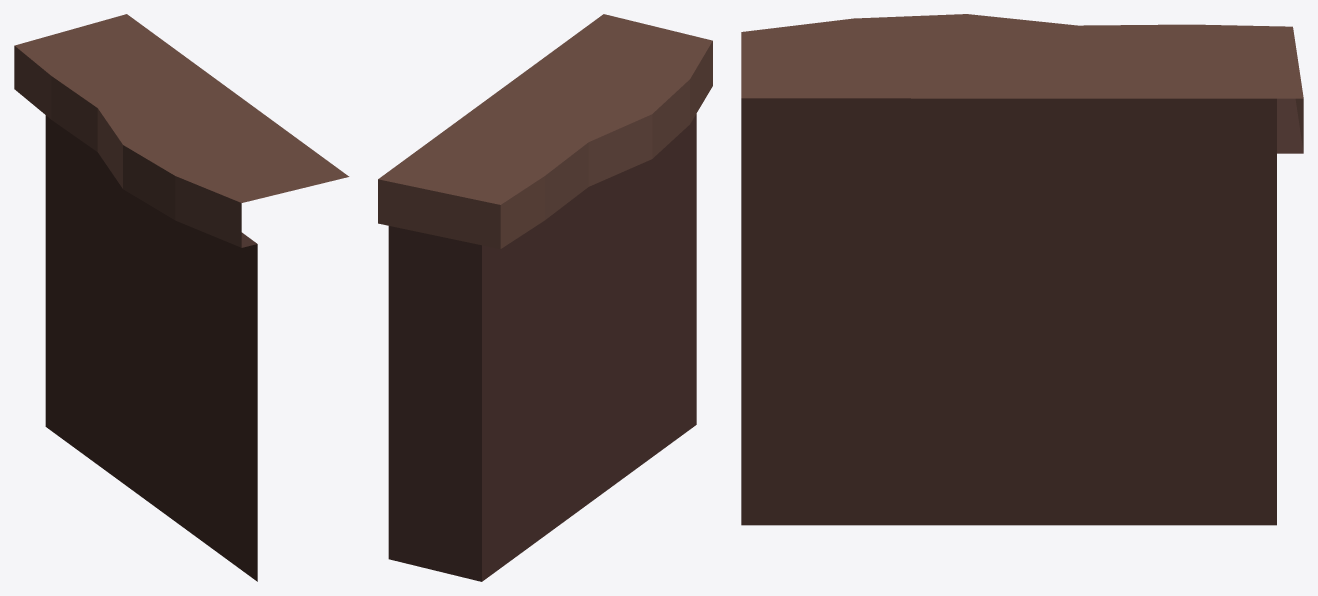
The model's file is Ground_End_1.fbx.
3 renders of one model, left to right at view 1: azimuth 30°, elevation 25°; view 2: azimuth 150°, elevation 25°; view 3: azimuth 270°, elevation 25°, orthographic. The views are drawn at different scales.
Visible parts, largest first — view 1: Ground_End_1; view 2: Ground_End_1; view 3: Ground_End_1.
Part boxes in pixels (x1,y1,x2,y2): Ground_End_1: (14, 14, 349, 581); Ground_End_1: (378, 14, 712, 581); Ground_End_1: (741, 14, 1303, 525).
Bounding box in the file's own units: 74.66 × 199 × 210.
1 material, 1 textured.
